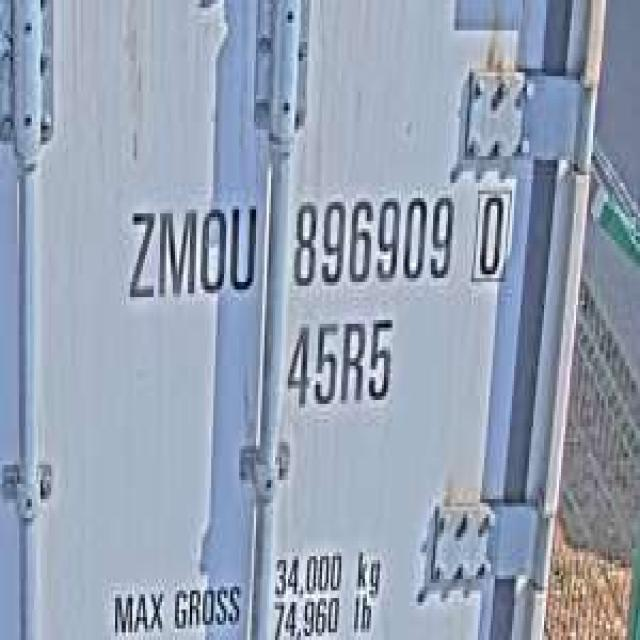dv: (467, 175, 514, 290)
owner: (120, 186, 258, 308)
serial: (286, 175, 456, 297)
size: (280, 309, 401, 415)
